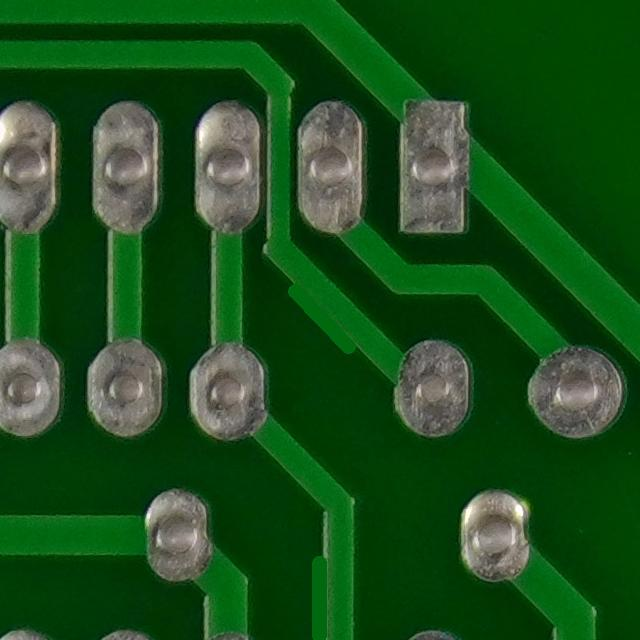spur: (264, 274, 377, 366)
